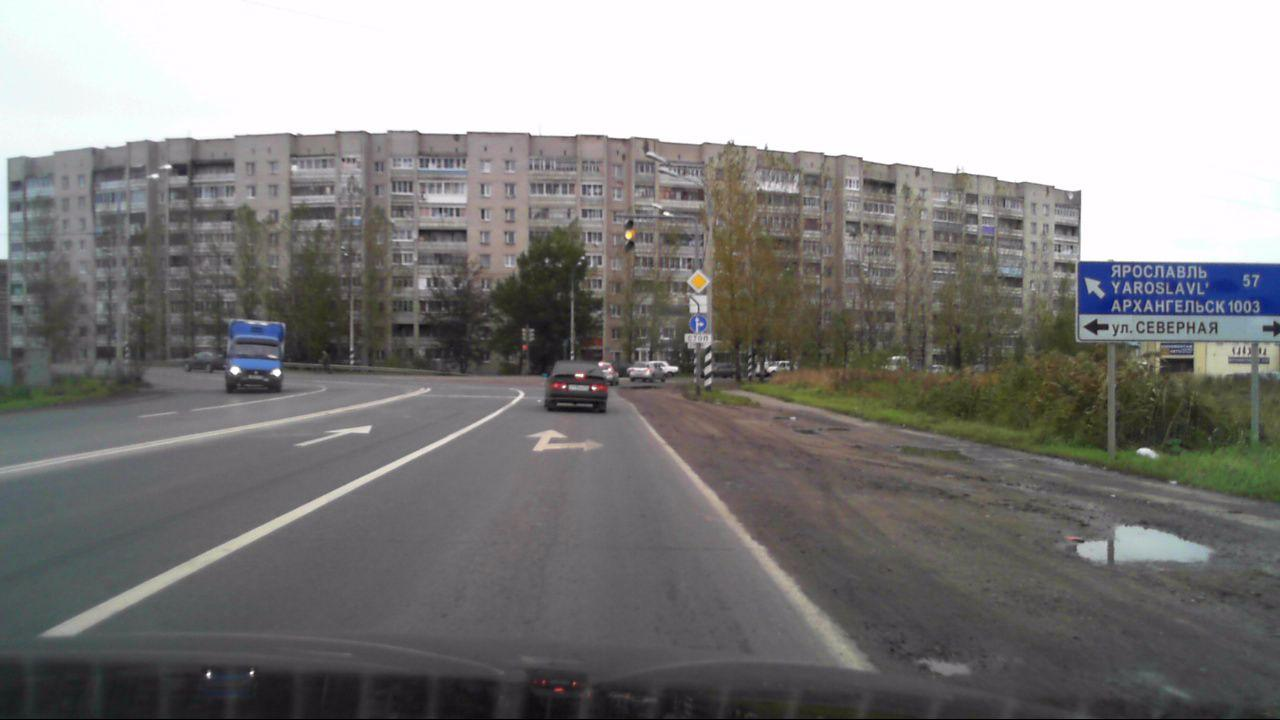road_sign: (684, 267, 711, 294), (688, 313, 708, 335), (689, 295, 708, 313)
